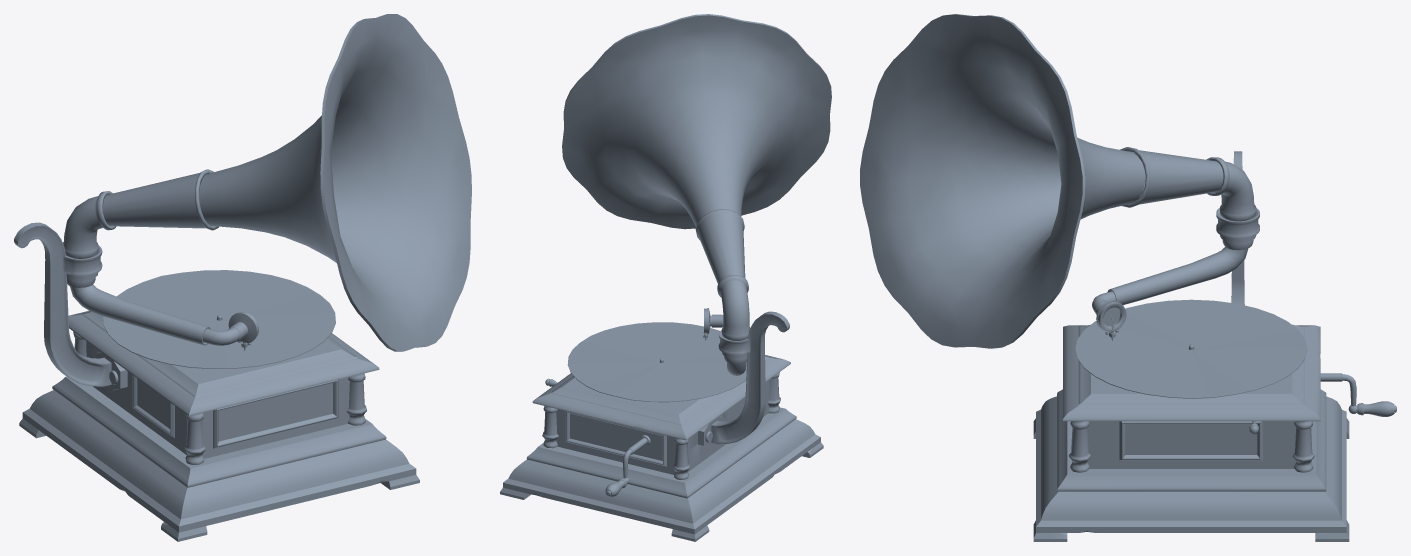
The picture shows the model from 3 angles, left to right: view 1: azimuth 30°, elevation 25°; view 2: azimuth 150°, elevation 25°; view 3: azimuth 270°, elevation 25°; orthographic projection. The views are drawn at different scales.
Parts seen in each view (by area): view 1: Body; view 2: Body; view 3: Body.
Part boxes in pixels (x1,y1,x2,y2): Body: (14, 14, 471, 541); Body: (500, 14, 831, 541); Body: (860, 14, 1396, 541).
Size of the model in its own units: 53.15 by 67.38 by 67.75.
